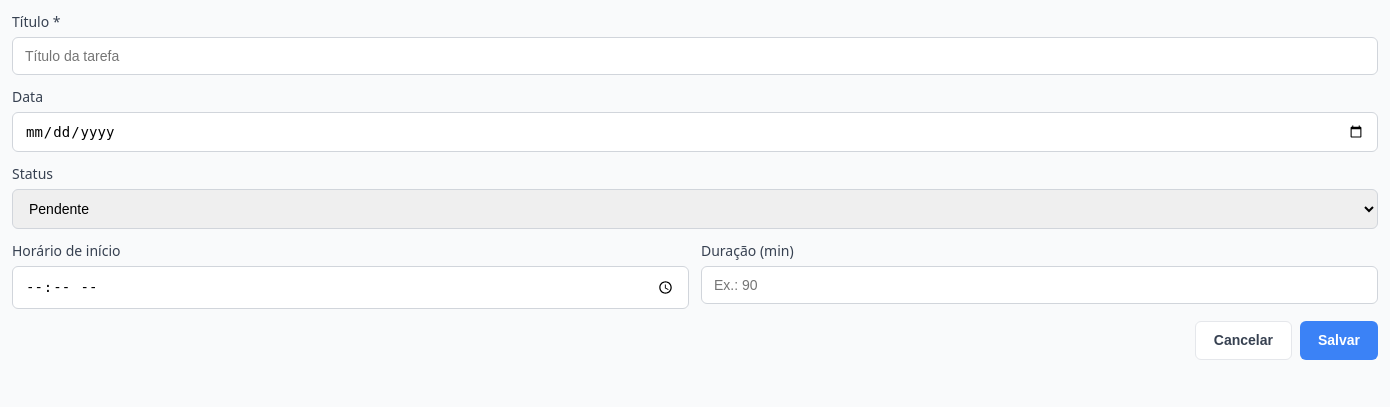
Test: FormularioTarefa › deve exibir horário de término calculado ao informar início e duração
Type "09:30" into the time field labelled "Horário de início". click: (350, 287)
box: [12,266,689,309]
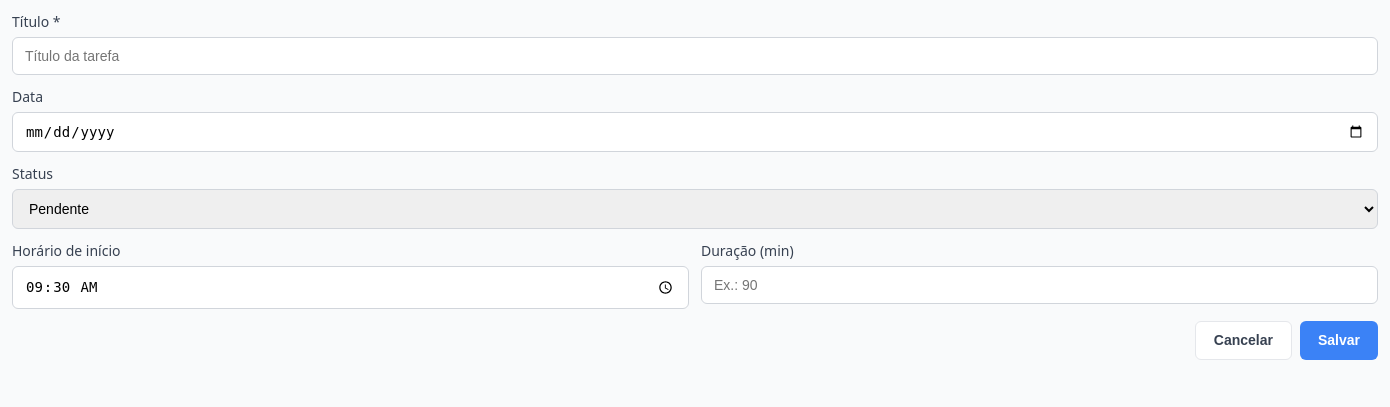
Type "90" into the number field labelled "Duração (min)". click: (1040, 285)
box: [701,266,1378,304]
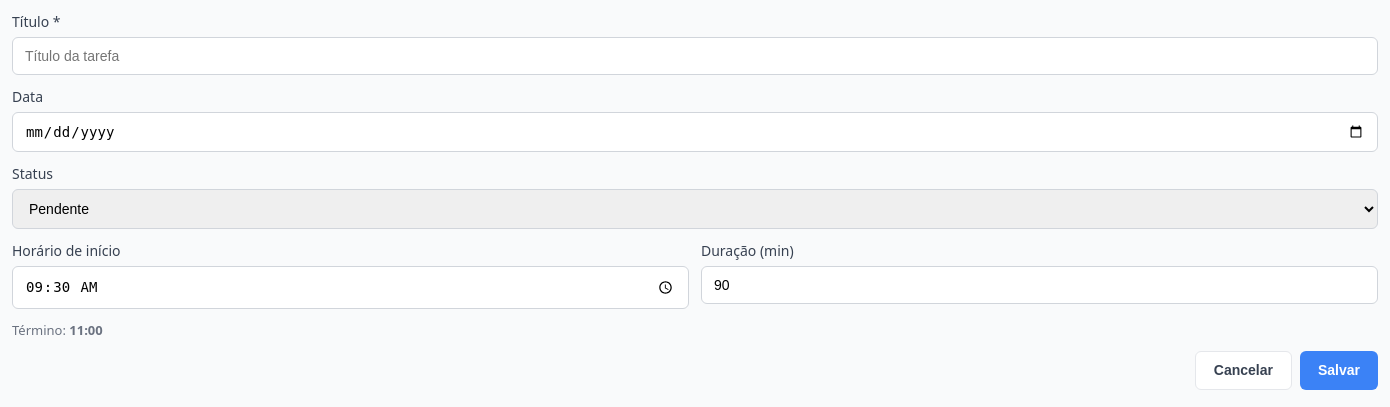
Result: the text "11:00" is shown at [69,321,103,339]
